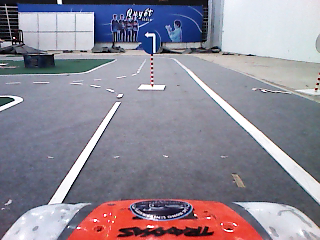turn: (141, 28, 162, 56)
